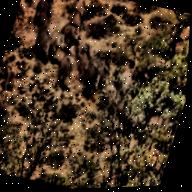boar: (30, 19, 60, 65), (40, 17, 70, 61), (74, 60, 106, 101), (50, 48, 78, 91), (29, 0, 59, 30), (56, 20, 85, 50)
